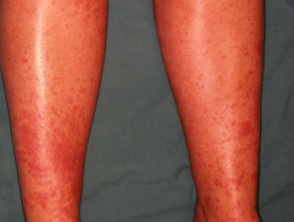SJS-TEN: (0, 84, 99, 222), (192, 80, 276, 222)
